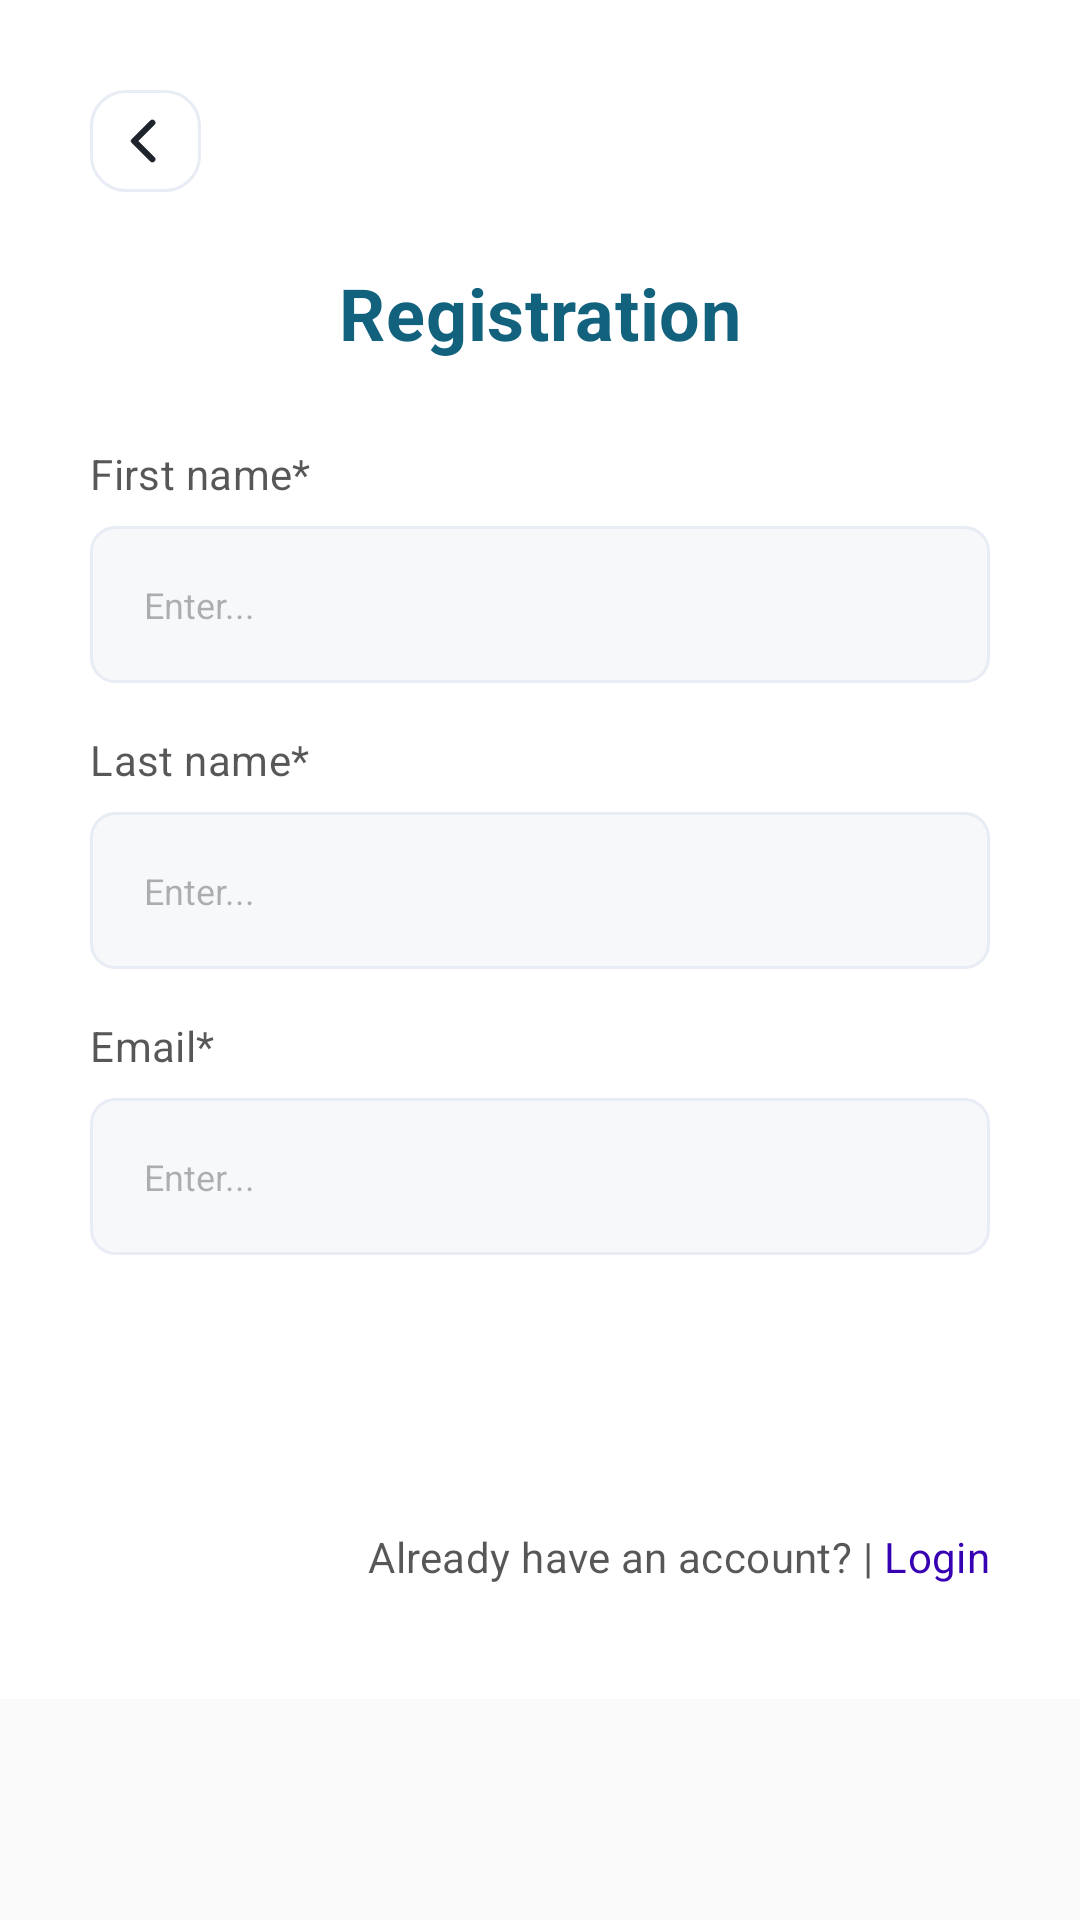

Screen size 1080w x 1920h. Icon name, then its box in pixels as (x1, y1, x2, y2):
arrow back: (130, 119, 156, 163)
